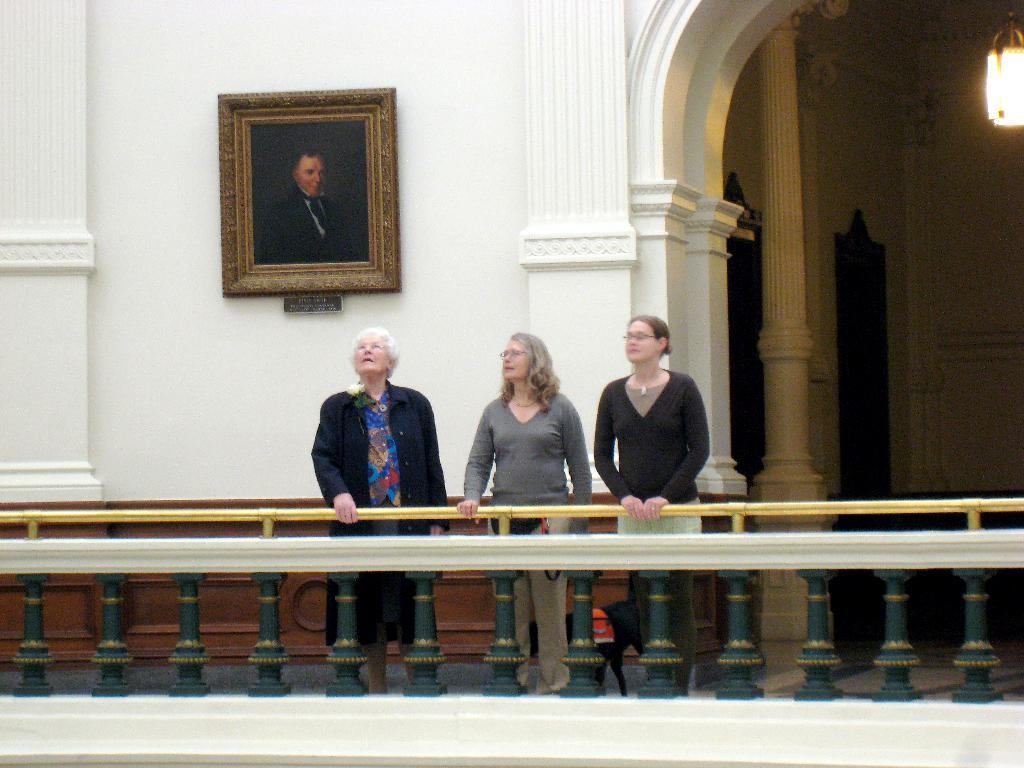Person: (456, 332, 591, 697), (324, 326, 450, 693), (593, 315, 713, 697)
